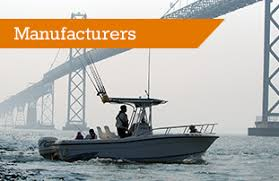boat: (38, 93, 220, 165)
